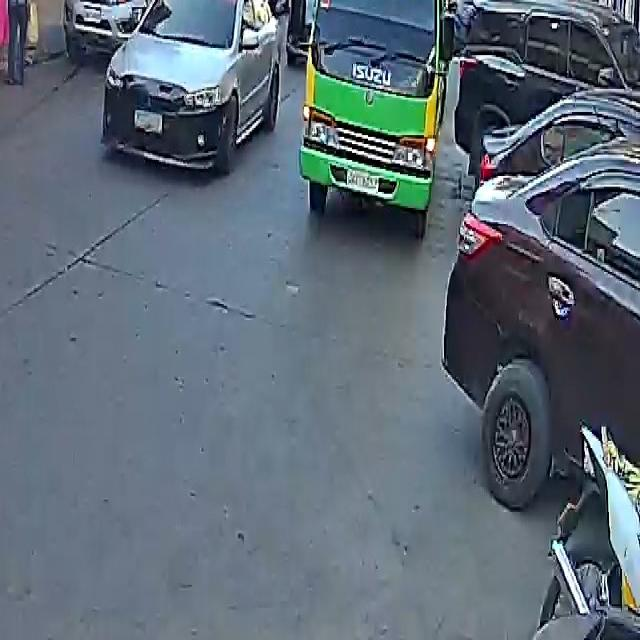car: (445, 69, 640, 523), (450, 0, 639, 192), (100, 0, 290, 176), (65, 0, 197, 52)
